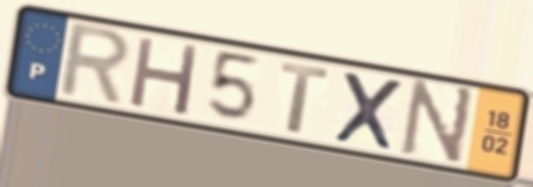5: (204, 48, 261, 126)
H: (126, 33, 204, 119)
N: (396, 77, 479, 170)
R: (54, 20, 135, 111)
T: (277, 61, 332, 137)
X: (330, 67, 407, 155)
